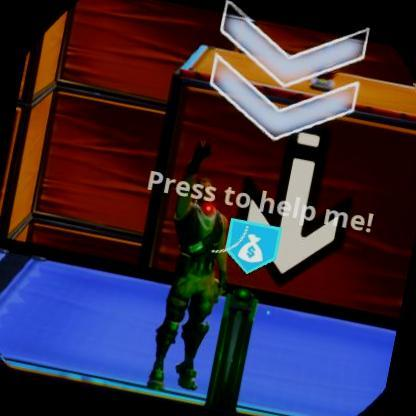person: (146, 167, 237, 368)
